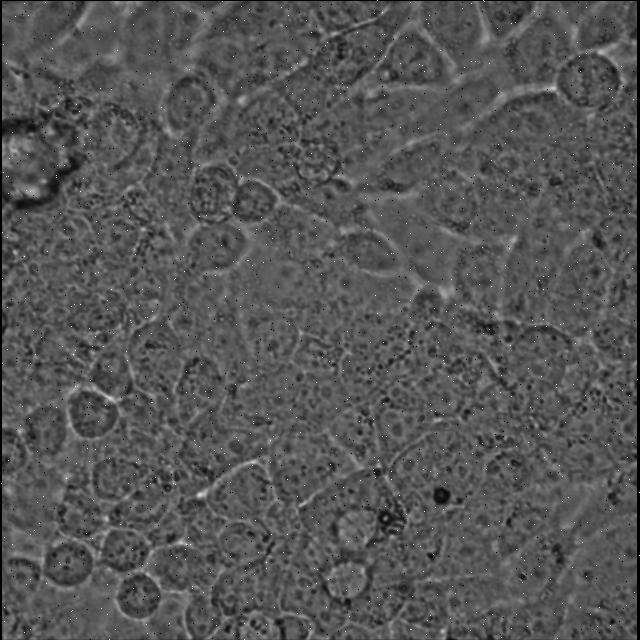microbeads: (433, 487, 452, 503)
